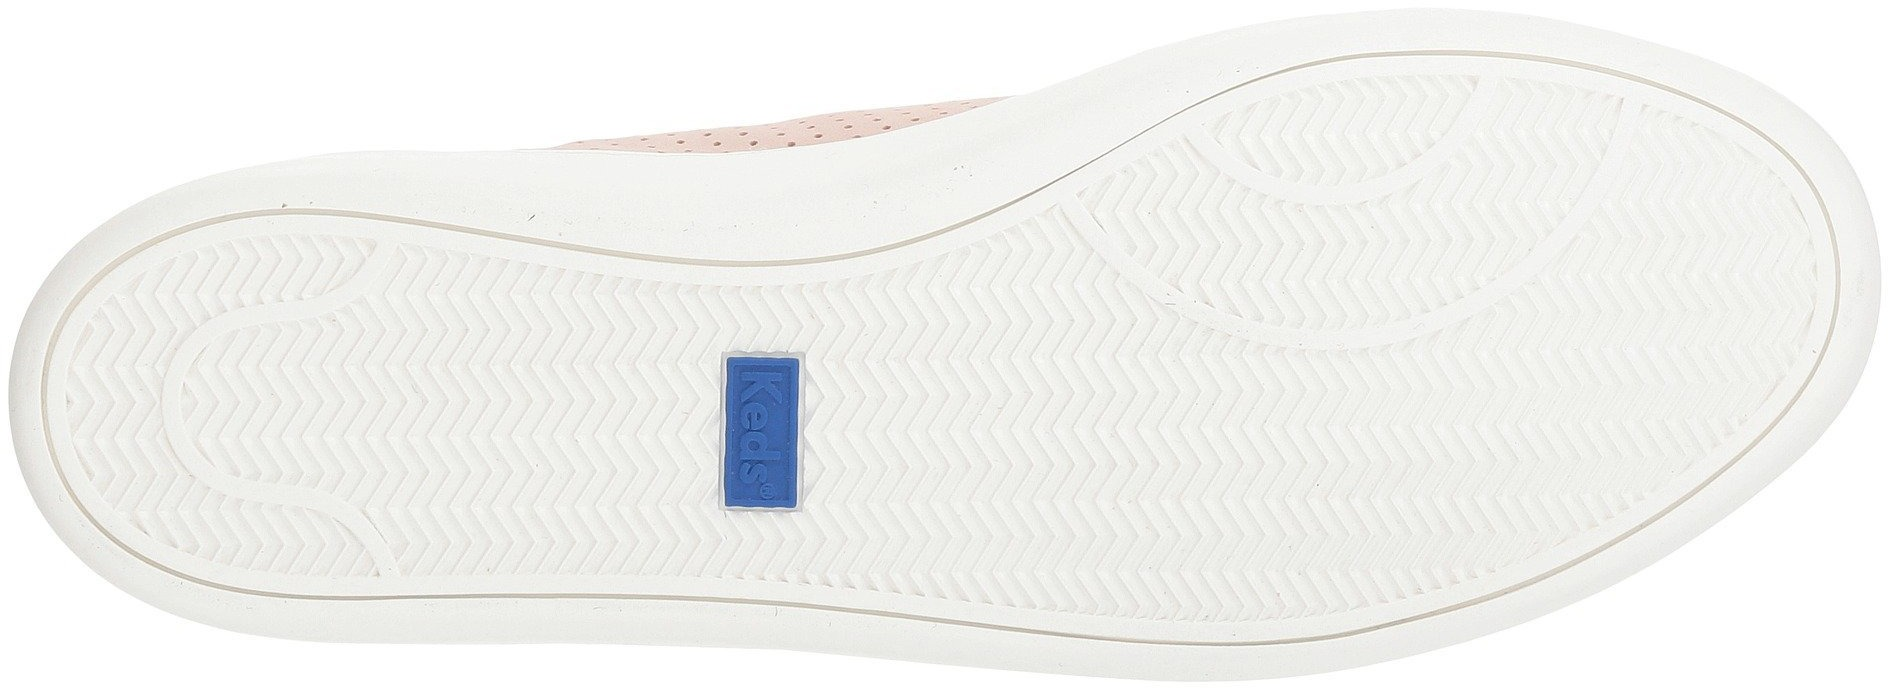chevron: (1215, 199, 1597, 537), (820, 290, 1158, 581), (137, 276, 429, 569), (436, 321, 710, 596), (1609, 208, 1793, 383)
circle: (756, 480, 780, 502)
quad: (720, 335, 812, 529), (716, 348, 809, 517)
ribbon: (160, 354, 203, 489)
text: (737, 367, 791, 499), (731, 434, 791, 499), (737, 375, 786, 427)
